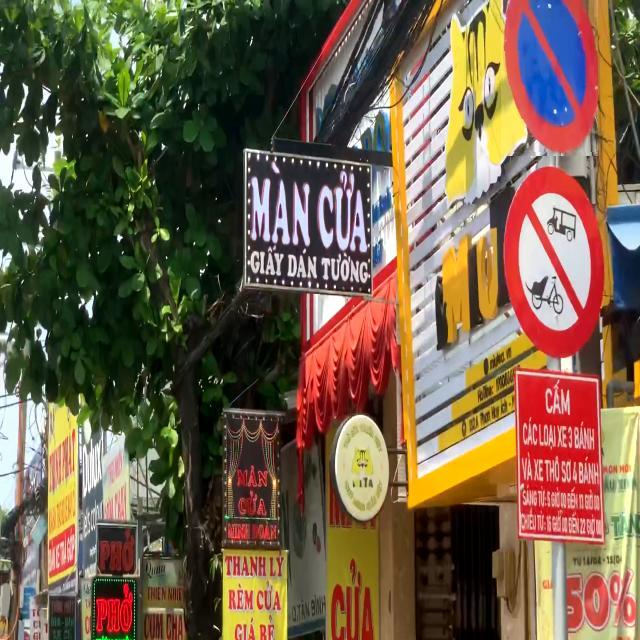P-131a: (501, 0, 598, 156)
